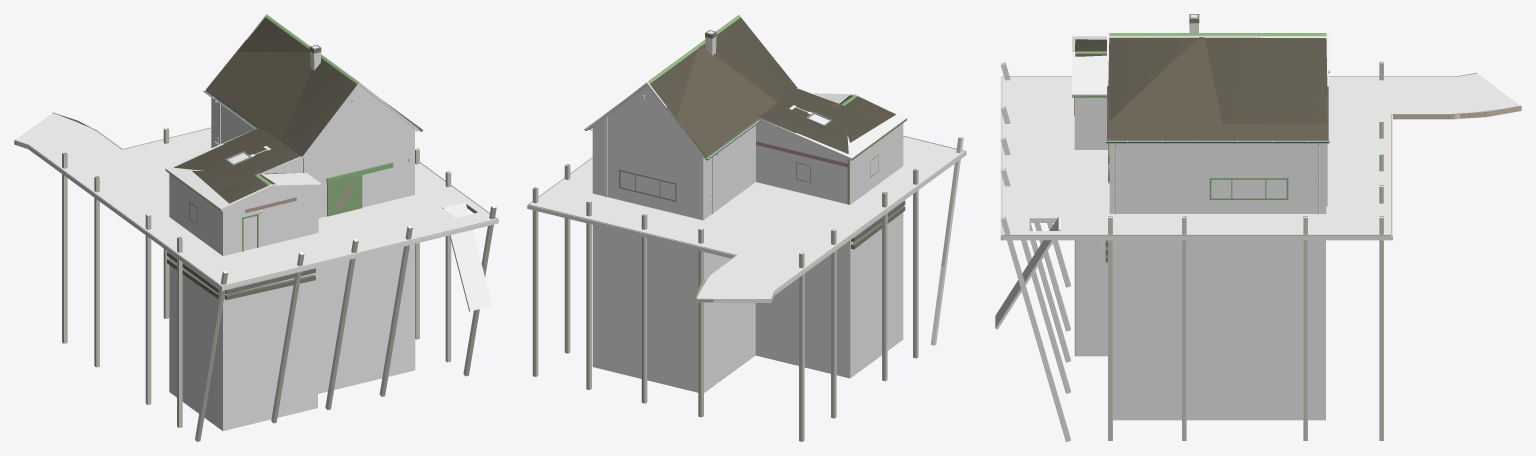
File: eca_bld_fv_house_d.DAE
The picture shows the model from 3 angles, left to right: view 1: azimuth 30°, elevation 25°; view 2: azimuth 150°, elevation 25°; view 3: azimuth 270°, elevation 25°; orthographic projection. The views are drawn at different scales.
Parts seen in each view (by area): view 1: Colmesh-1, eca_bld_fv_house_d150, eca_bld_fv_house_d400, eca_bld_fv_house_d60; view 2: Colmesh-1, eca_bld_fv_house_d150, eca_bld_fv_house_d400, eca_bld_fv_house_d60; view 3: Colmesh-1, eca_bld_fv_house_d150, eca_bld_fv_house_d400, eca_bld_fv_house_d60.
Boxes of the visible parts, bbox=[...] form: Colmesh-1: bbox=[15, 14, 498, 440]; eca_bld_fv_house_d150: bbox=[14, 15, 498, 318]; eca_bld_fv_house_d400: bbox=[62, 90, 496, 441]; eca_bld_fv_house_d60: bbox=[165, 39, 419, 199]; Colmesh-1: bbox=[527, 14, 966, 441]; eca_bld_fv_house_d150: bbox=[528, 15, 965, 417]; eca_bld_fv_house_d400: bbox=[533, 95, 961, 441]; eca_bld_fv_house_d60: bbox=[587, 46, 891, 160]; Colmesh-1: bbox=[995, 14, 1519, 441]; eca_bld_fv_house_d150: bbox=[1001, 14, 1521, 262]; eca_bld_fv_house_d400: bbox=[1005, 62, 1383, 441]; eca_bld_fv_house_d60: bbox=[1107, 35, 1328, 139].
Bounding box in the file's own units: 17.8 × 24.32 × 18.82.
